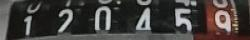digits: (93, 5, 112, 34), (174, 7, 192, 36), (214, 8, 231, 38), (56, 7, 74, 35), (134, 6, 152, 33), (22, 15, 34, 38)
